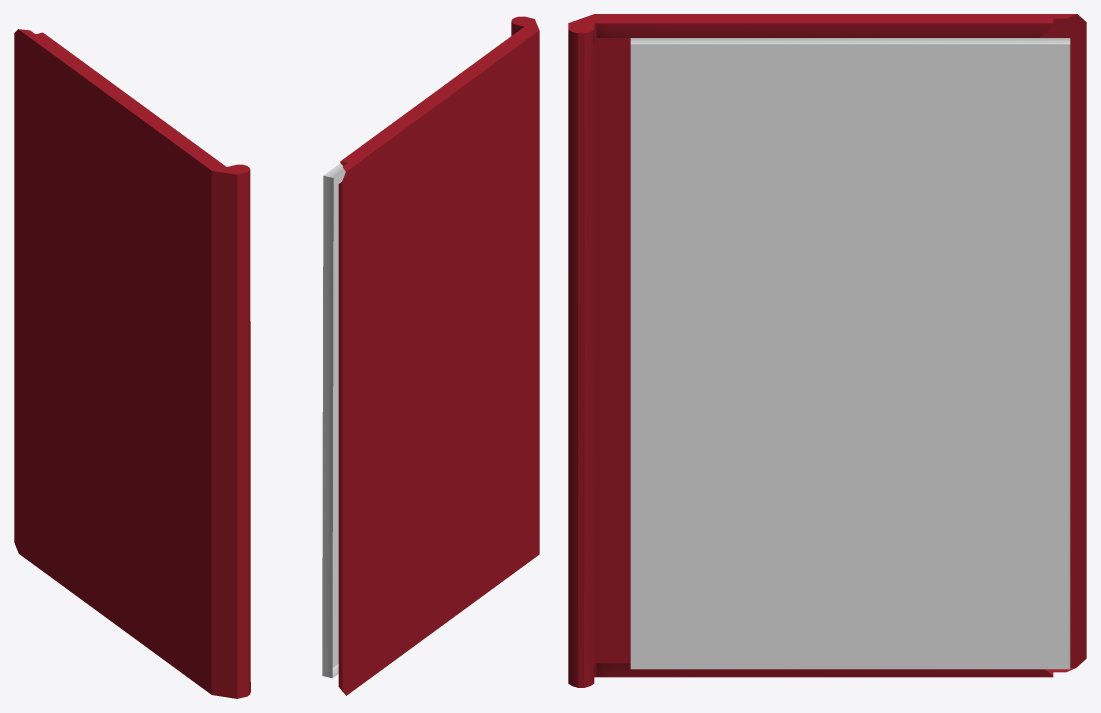
Rendered from passport.FBX.
3 renders of one model, left to right at view 1: azimuth 30°, elevation 25°; view 2: azimuth 150°, elevation 25°; view 3: azimuth 270°, elevation 25°, orthographic. The views are drawn at different scales.
Visible parts, largest first — view 1: passportBack; view 2: passportBack; view 3: passportBack.
Boxes of the visible parts, <box> form: passportBack: <box>14,29,250,698</box>; passportBack: <box>322,16,539,695</box>; passportBack: <box>568,14,1086,687</box>.
Bounding box in the file's own units: 0.5285 × 5.22 × 3.75.
Materials: 1 (1 with a texture image).
